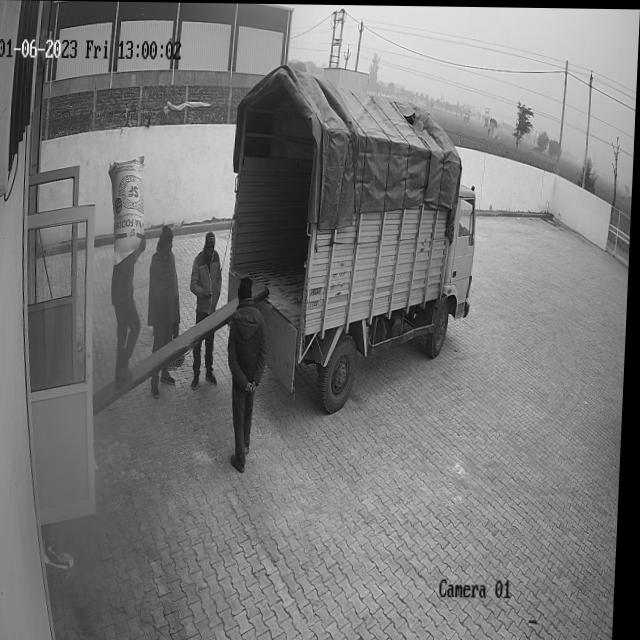sack: (107, 154, 150, 263)
